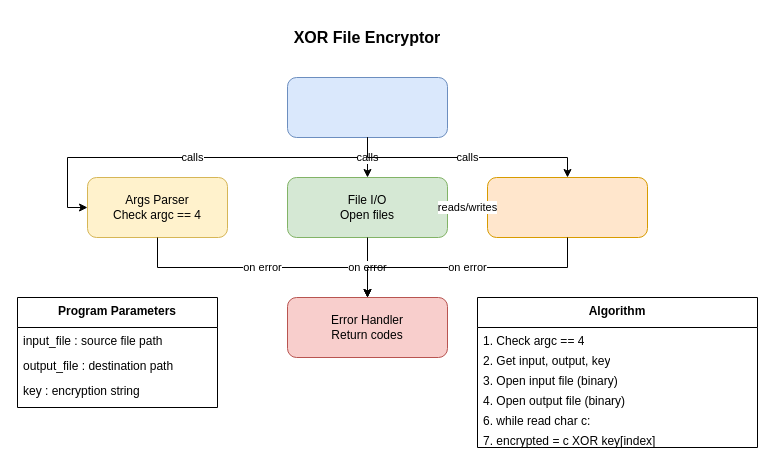
Image size: 775x467. Some labels were removed from this diagram. Each missing label, with the centre of its shape:
"Encryption Engine XOR with cyclic key" belongs at (x=567, y=207).
"Main Module main() function" belongs at (x=367, y=107).
